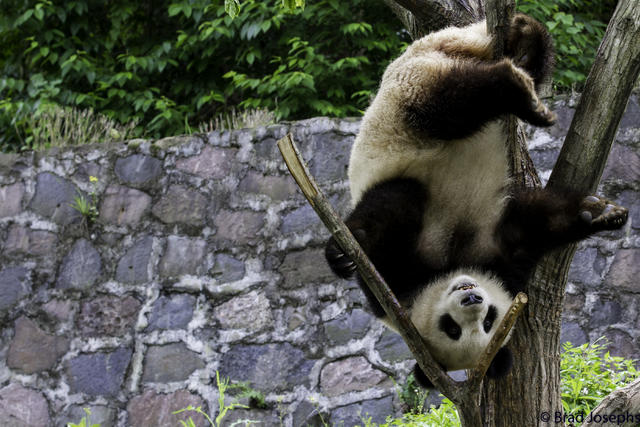panda: (323, 14, 633, 388)
